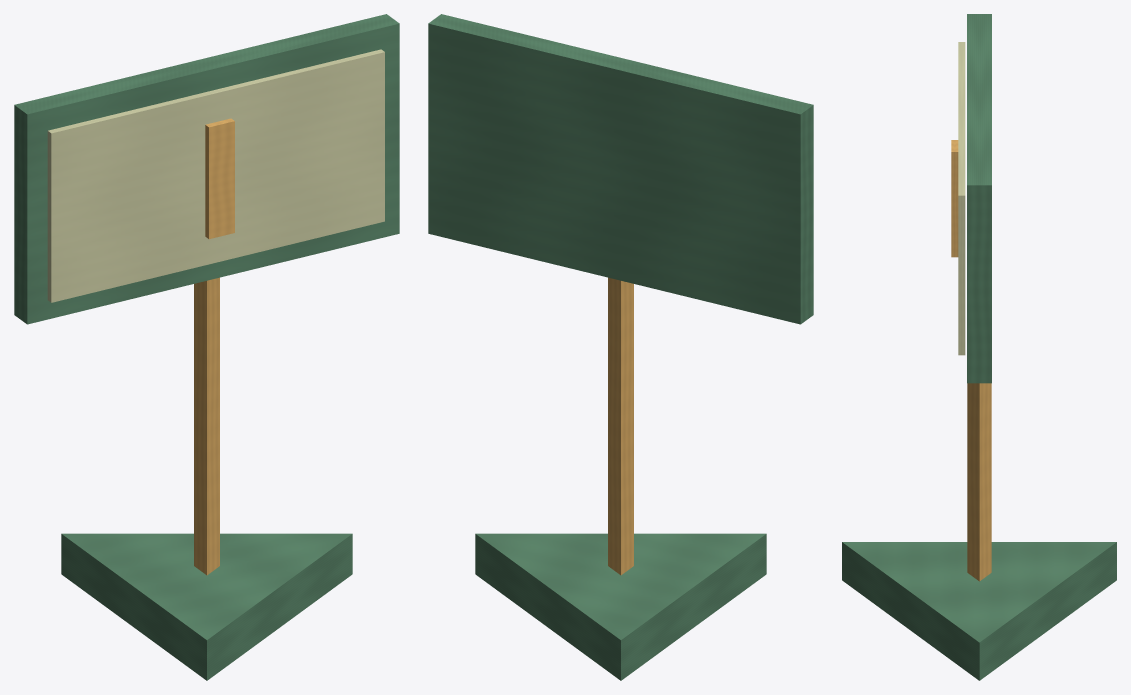
Rendered from atlas100-s001-a11.lod2.glb.
3 renders of one model, left to right at view 1: azimuth 30°, elevation 25°; view 2: azimuth 150°, elevation 25°; view 3: azimuth 270°, elevation 25°, orthographic. The views are drawn at different scales.
Visible parts, largest first — view 1: atlas100-s001-a11:part-003, atlas100-s001-a11:part-002, atlas100-s001-a11:part-000, atlas100-s001-a11:part-001, atlas100-s001-a11:part-005; view 2: atlas100-s001-a11:part-002, atlas100-s001-a11:part-000, atlas100-s001-a11:part-001; view 3: atlas100-s001-a11:part-000, atlas100-s001-a11:part-002, atlas100-s001-a11:part-001, atlas100-s001-a11:part-003, atlas100-s001-a11:part-005.
Part boxes in pixels (x1=…): atlas100-s001-a11:part-003: x1=47, y1=49, x2=384, y2=302; atlas100-s001-a11:part-002: x1=14, y1=14, x2=399, y2=324; atlas100-s001-a11:part-000: x1=61, y1=533, x2=352, y2=680; atlas100-s001-a11:part-001: x1=194, y1=277, x2=219, y2=575; atlas100-s001-a11:part-005: x1=205, y1=118, x2=234, y2=239; atlas100-s001-a11:part-002: x1=428, y1=14, x2=813, y2=324; atlas100-s001-a11:part-000: x1=475, y1=533, x2=766, y2=680; atlas100-s001-a11:part-001: x1=608, y1=277, x2=633, y2=575; atlas100-s001-a11:part-000: x1=842, y1=542, x2=1116, y2=680; atlas100-s001-a11:part-002: x1=967, y1=14, x2=991, y2=383; atlas100-s001-a11:part-001: x1=967, y1=383, x2=991, y2=581; atlas100-s001-a11:part-003: x1=958, y1=42, x2=965, y2=355; atlas100-s001-a11:part-005: x1=951, y1=140, x2=958, y2=257.
Size of the model in its own units: 1.15 by 1.61 by 0.7794.
Materials: 3 (3 with a texture image).
